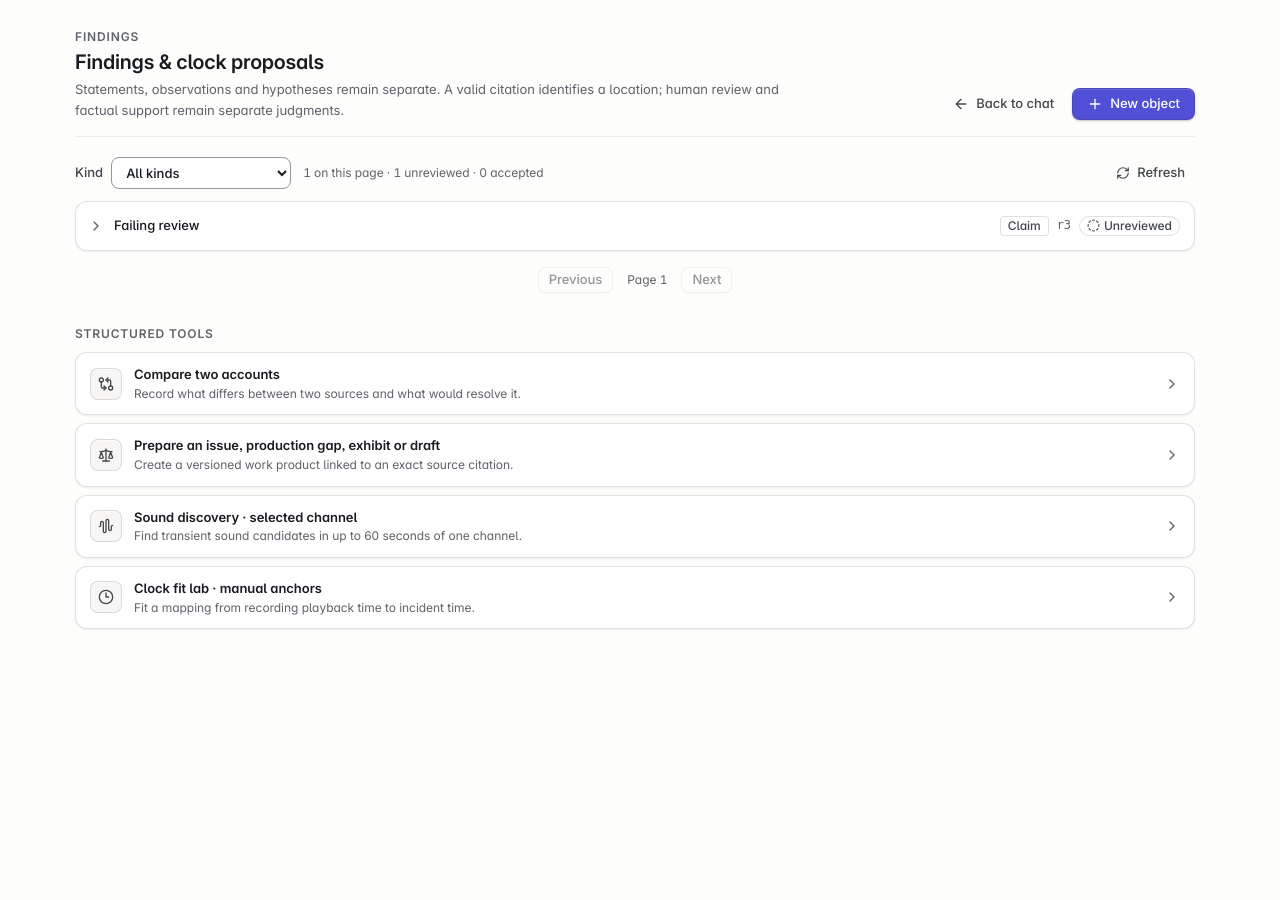
Test case: returns focus to the review group when a review fails, without refetching
Click the text "Failing review": (157, 225) x1=114 y1=217 x2=200 y2=233
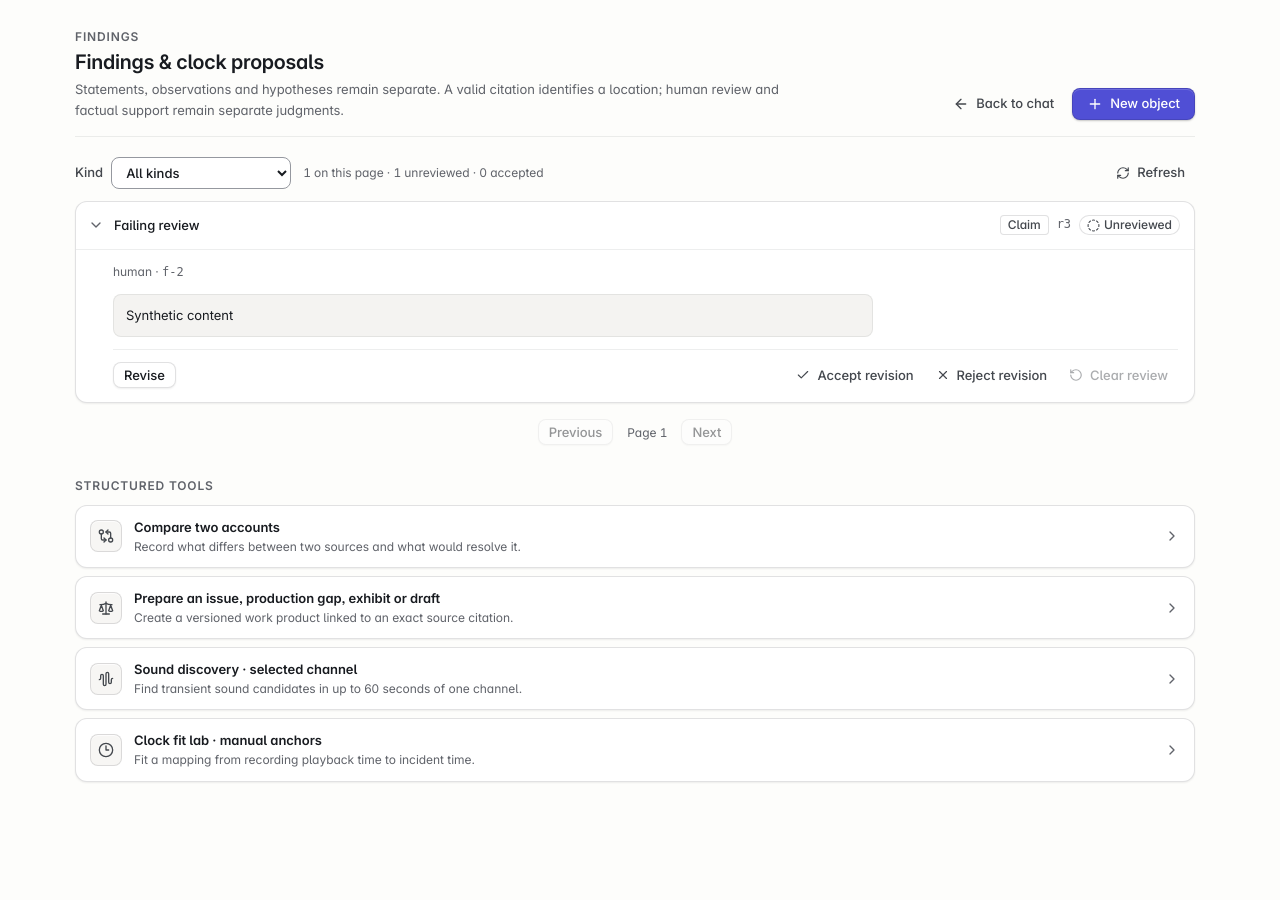
Click the button "Accept revision": (855, 375) x1=786 y1=362 x2=924 y2=388
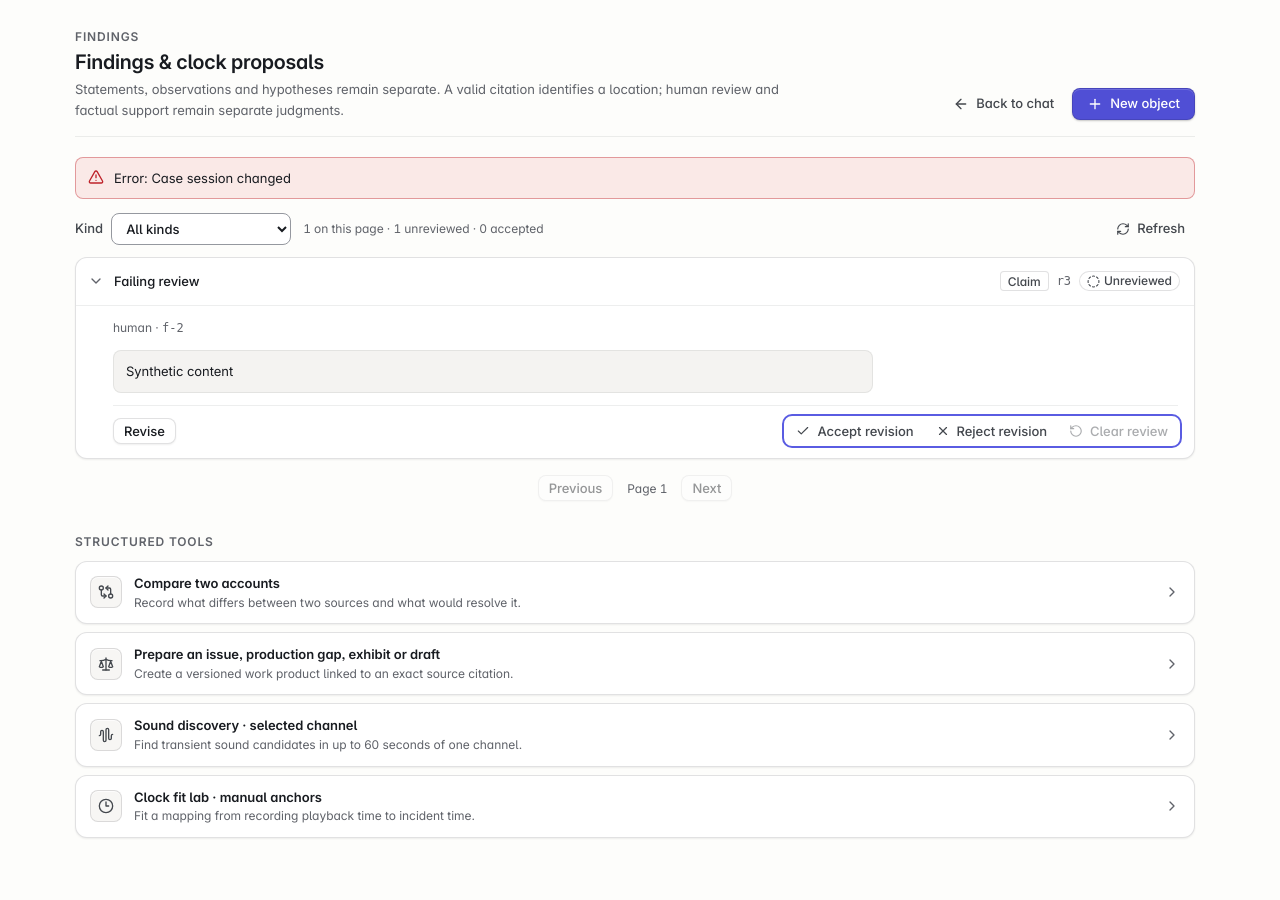
Expected: the message shows "Case session changed", x1=114 y1=170 x2=291 y2=186
